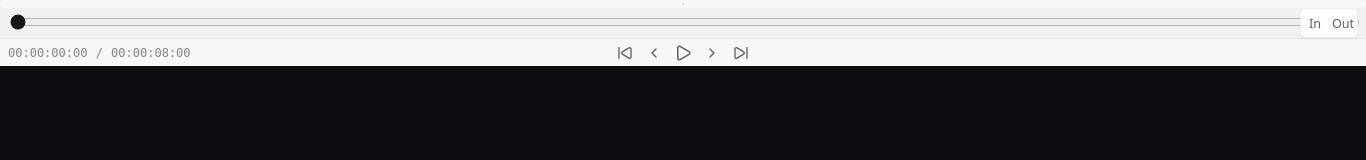
SourceMonitor › steps forward and back one frame
Click the button named "source step forward one frame". click: (712, 52)
box: [700, 40, 724, 64]
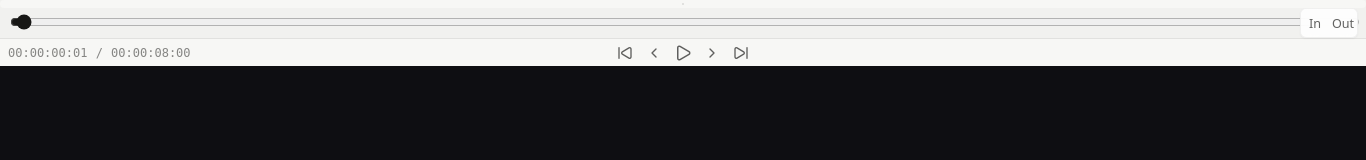
Expected: the text named "source current time" reads "00:00:00:01", [8, 46, 88, 60]
Click the button named "source step back one frame". click: (654, 52)
box: [642, 40, 666, 64]
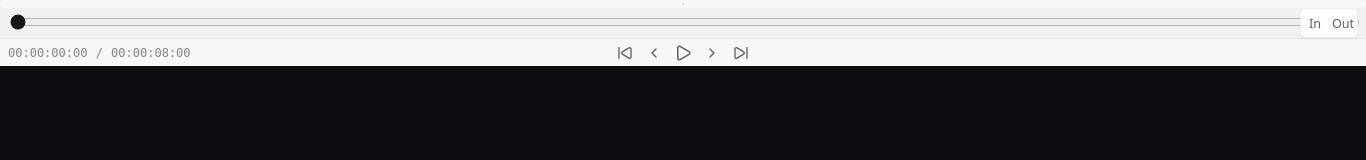
Expected: the text named "source current time" reads "00:00:00:00", [8, 46, 88, 60]
